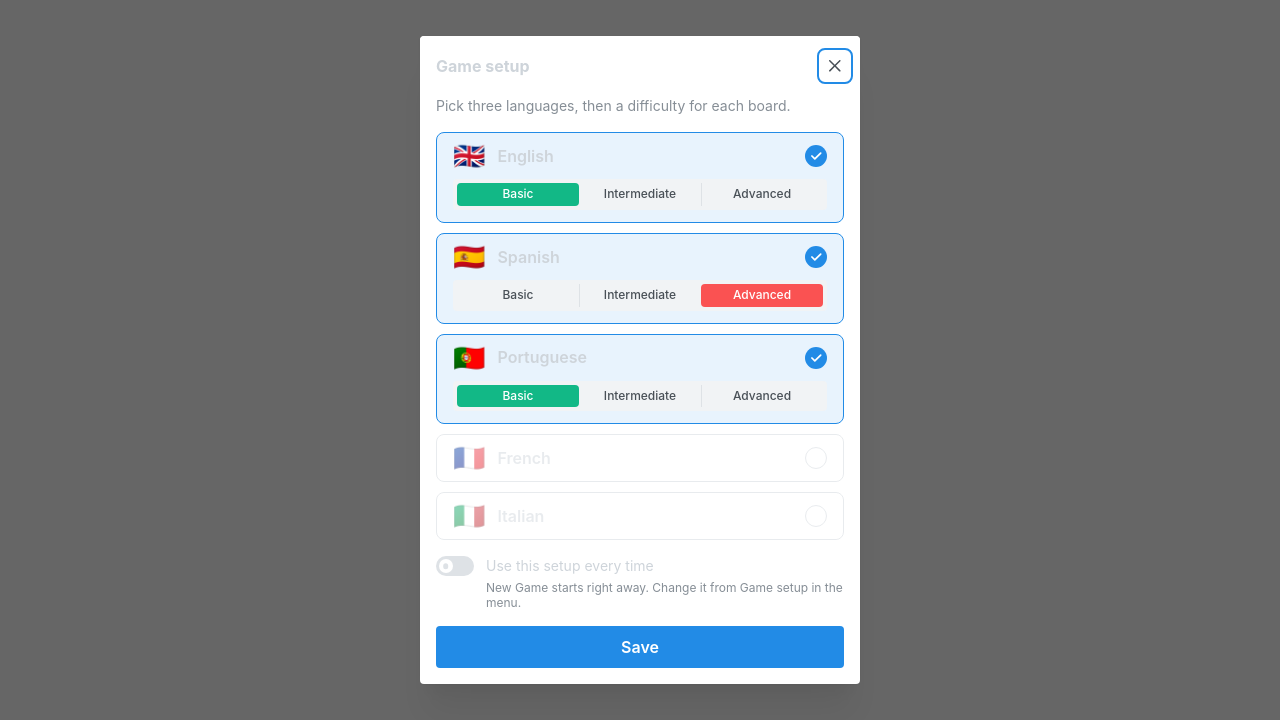
GameSetupDialog › keeps settings open with an error when saving fails
Click the button "Save": (640, 647) [436,626,844,668]
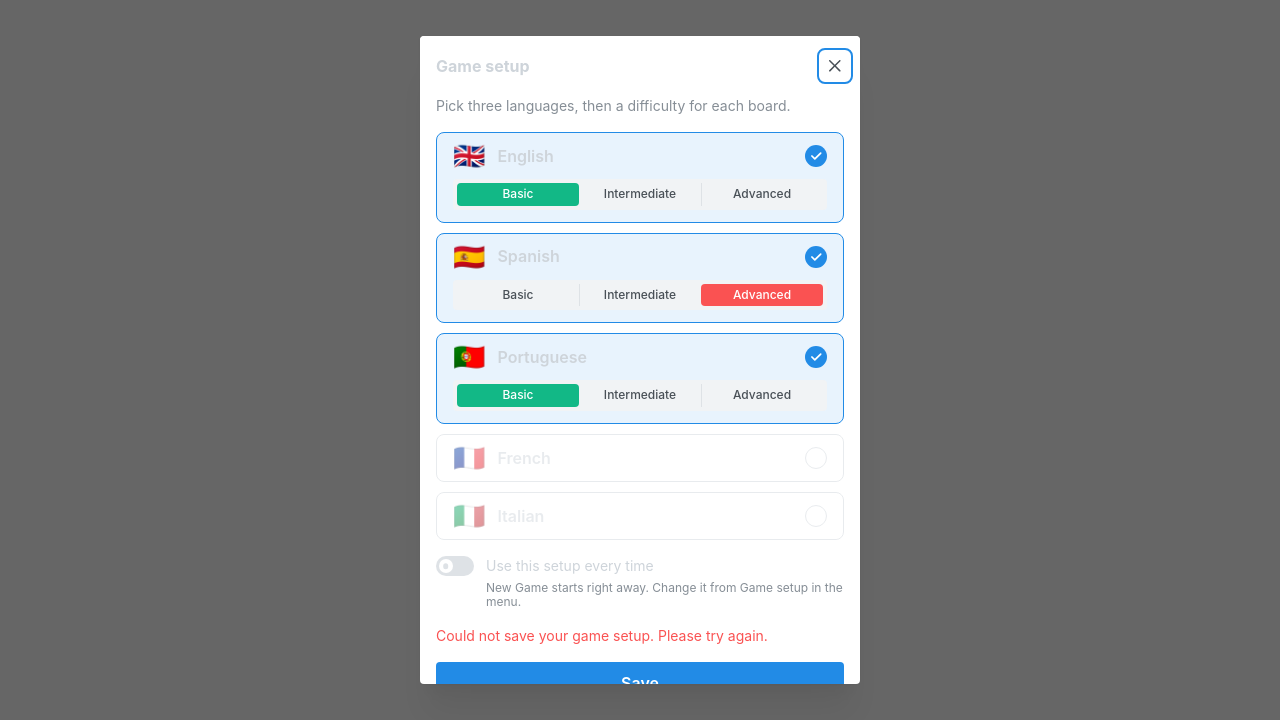
Expected: the message reads "Could not save your game setup. Please try again.", [436,627,768,644]
